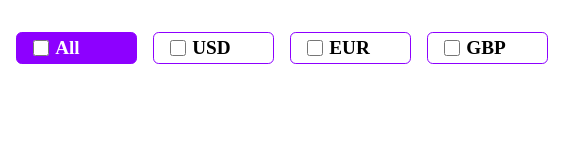
Scenario: CurrencySelection › should select item by click
Step 1. Click the text "USD" → (214, 48), box [153,32,274,64]
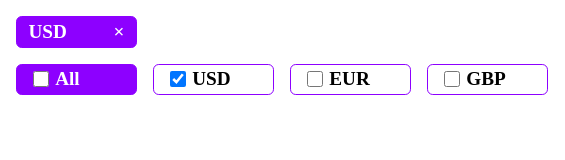
Expected: the text "USD" is shown, [28,21,67,42]
